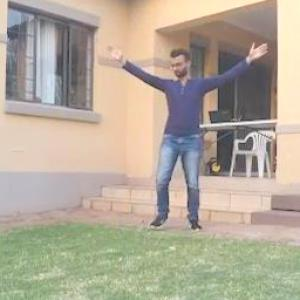takeoff: (108, 41, 272, 223)
